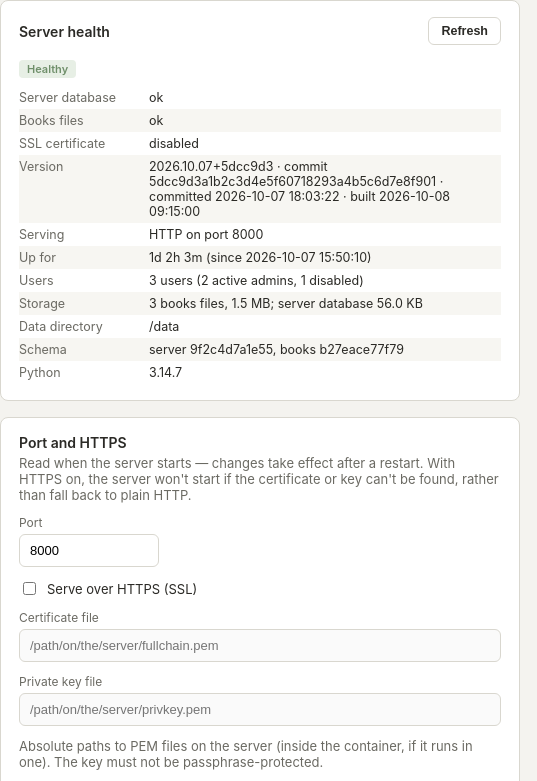
Scenario: won't save a port that isn't a port
Replace the text in the field labelled "Port" with "99999" at [89, 550], box [19,534,159,567]
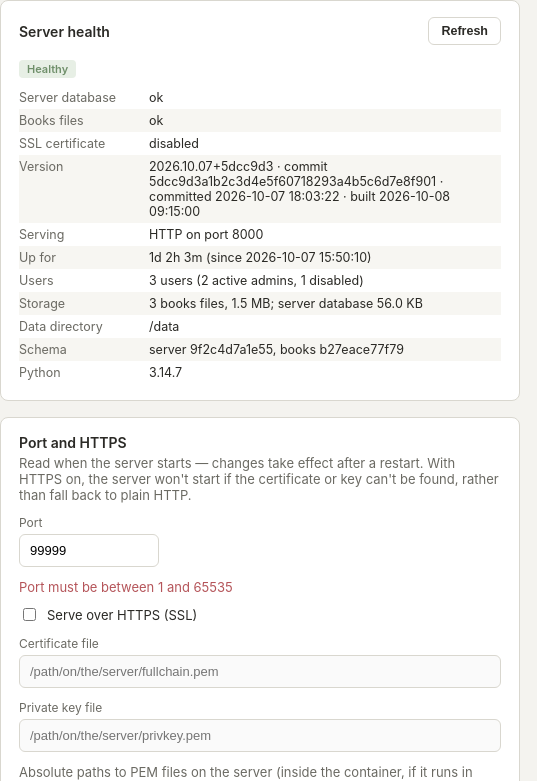
Expected: the text "Port must be between 1 and 65535" is shown, [19,579,233,595]
